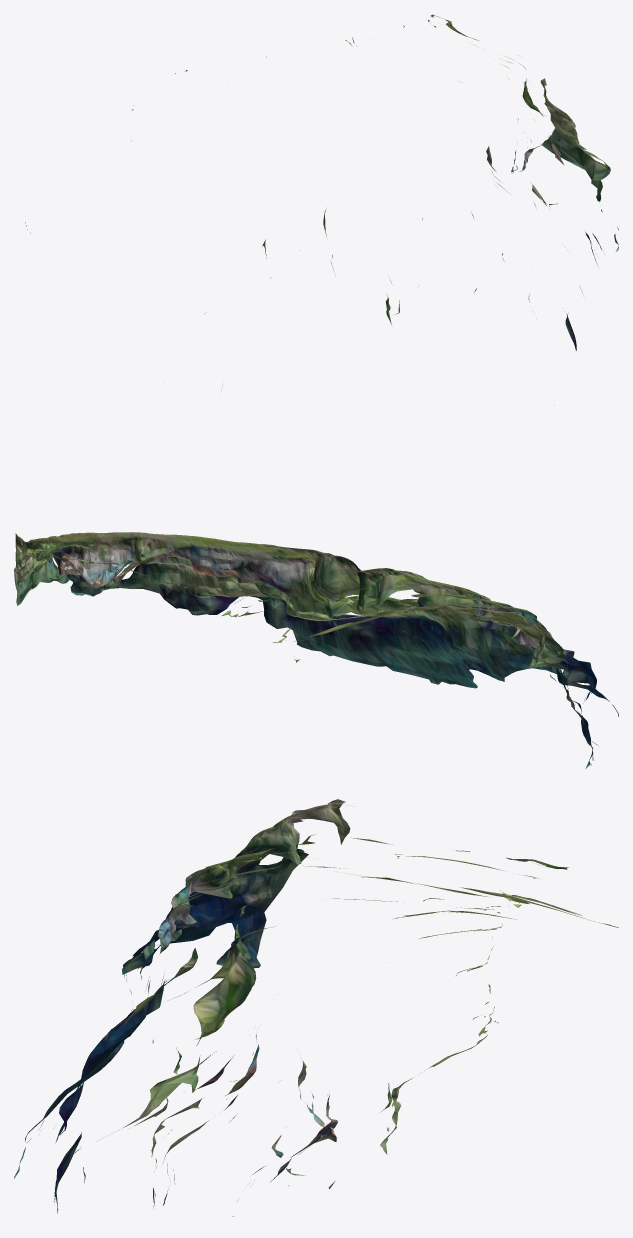
File: render_lod1.glb
3 views of the same model, one above another, from view 1: azimuth 30°, elevation 25°; view 2: azimuth 150°, elevation 25°; view 3: azimuth 270°, elevation 25° (orthographic). The views are drawn at different scales.
Parts seen in each view (by area): view 1: geometry_0; view 2: geometry_0; view 3: geometry_0.
Boxes of the visible parts, x1,y1,x2,y2 form: geometry_0: [25, 14, 618, 405]; geometry_0: [14, 532, 618, 768]; geometry_0: [14, 799, 618, 1216].
Bounding box in the file's own units: 1.33 × 0.556 × 1.08.
